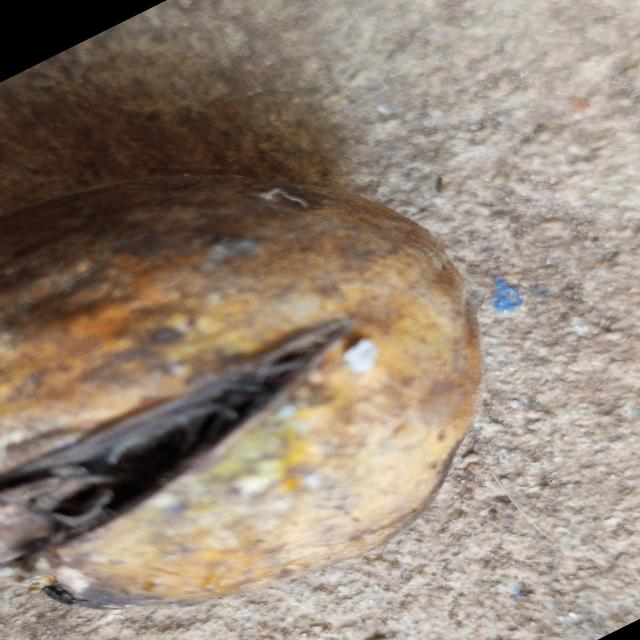damaged: (0, 175, 480, 605)
